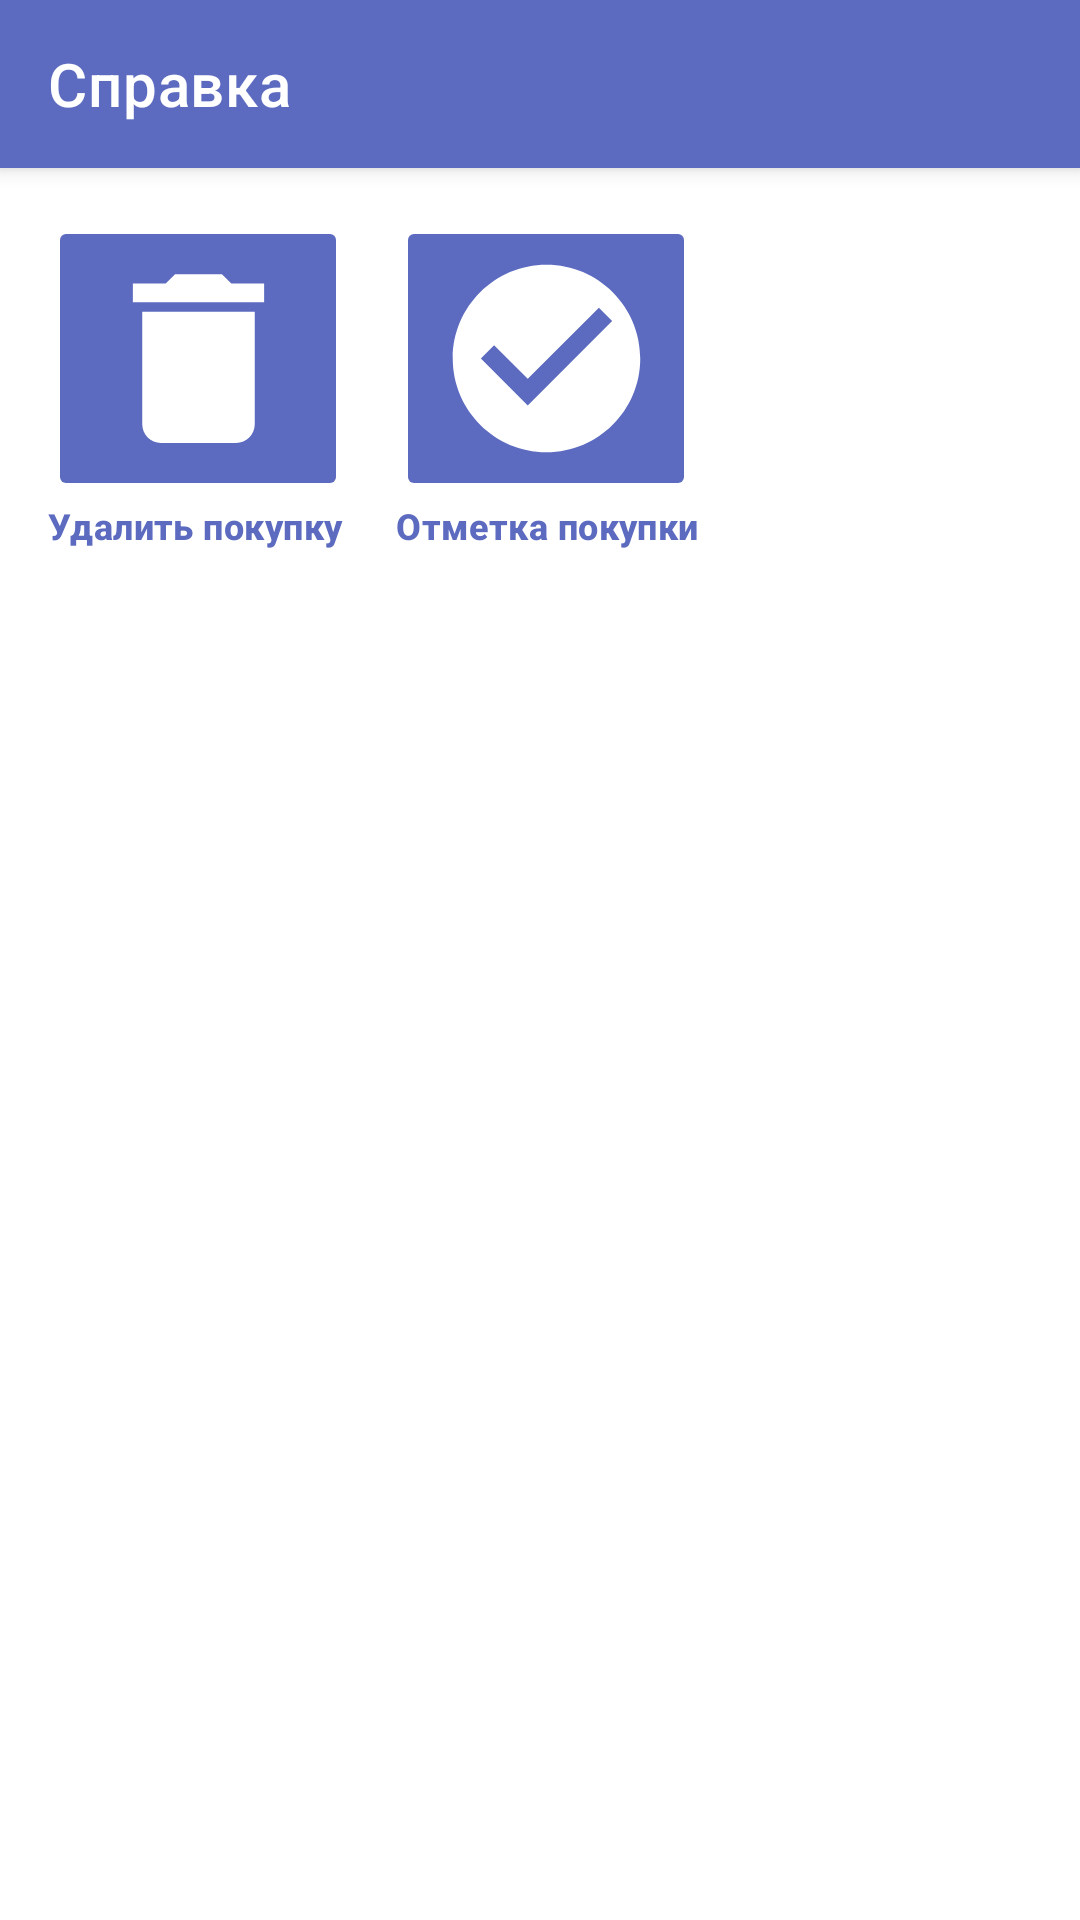

Named icons in this screenshot (1080 × 1920) and their bounding boxes, [x1, y1, x2, y2]:
check circle: [408, 234, 684, 483]
